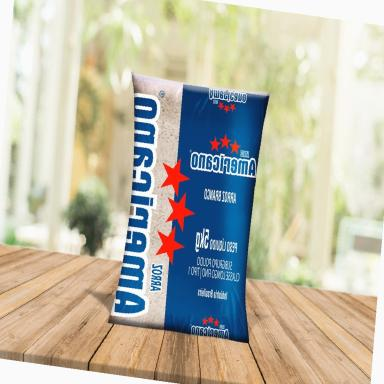rice package: (110, 74, 269, 342)
